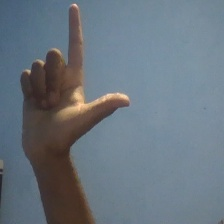L: (16, 1, 132, 155)
